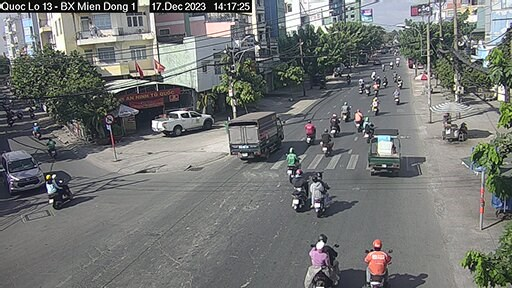car: (151, 111, 214, 137), (3, 148, 39, 193)
motorbike: (302, 246, 344, 284), (367, 242, 398, 288), (289, 170, 311, 214), (46, 171, 72, 207), (309, 175, 332, 209), (317, 130, 336, 159), (368, 97, 388, 117), (328, 114, 343, 136), (302, 119, 315, 143), (391, 88, 405, 106), (355, 109, 364, 131), (344, 104, 352, 121)
truck: (228, 113, 284, 158)
